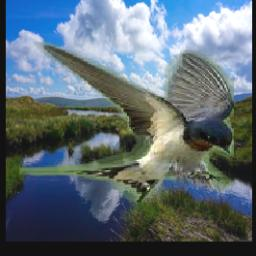Swallow: (20, 39, 235, 202)
